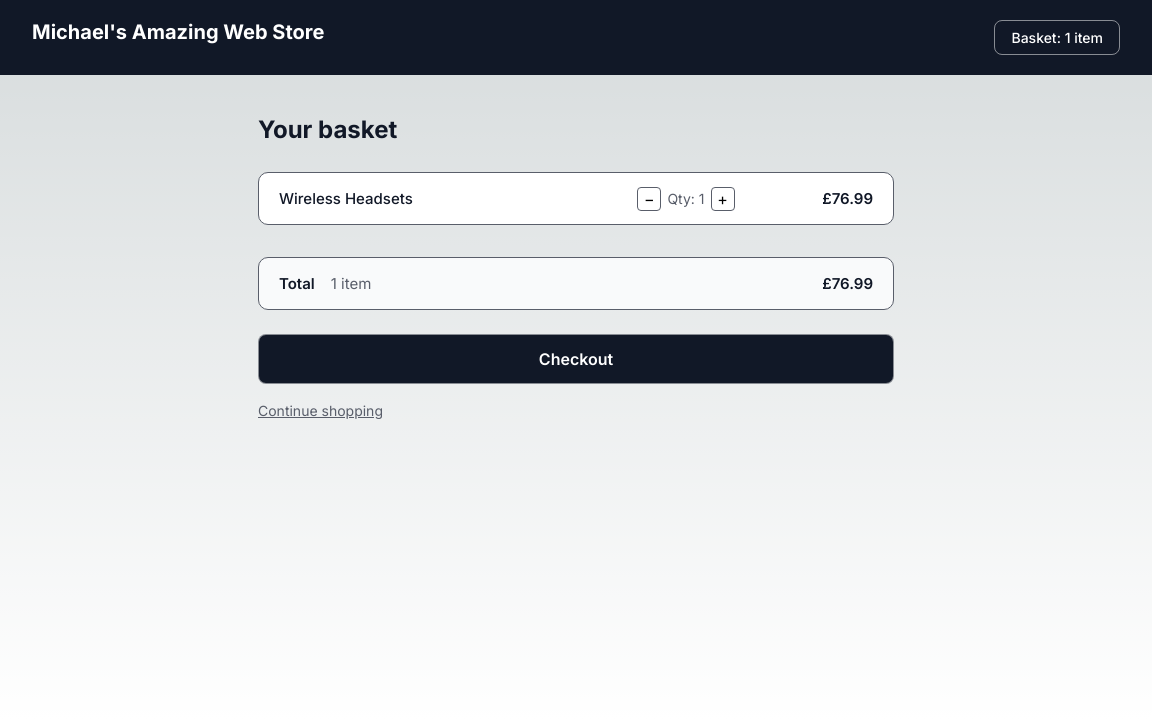
Test: CheckoutPage — qty controls › incrementing an item updates its quantity display
Click the button named "+ Add one more Wireless Headsets to basket" at (722, 198), box [710, 186, 734, 210]
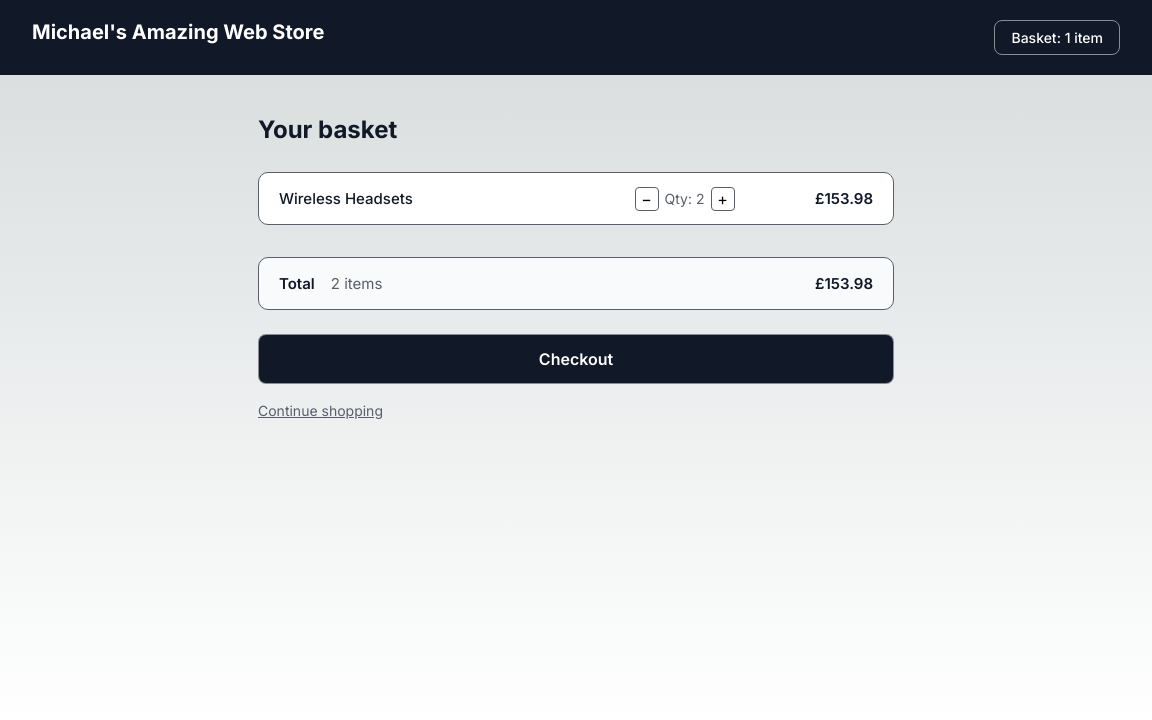
Now the text "Qty: 2" is shown, box [664, 190, 704, 207]
